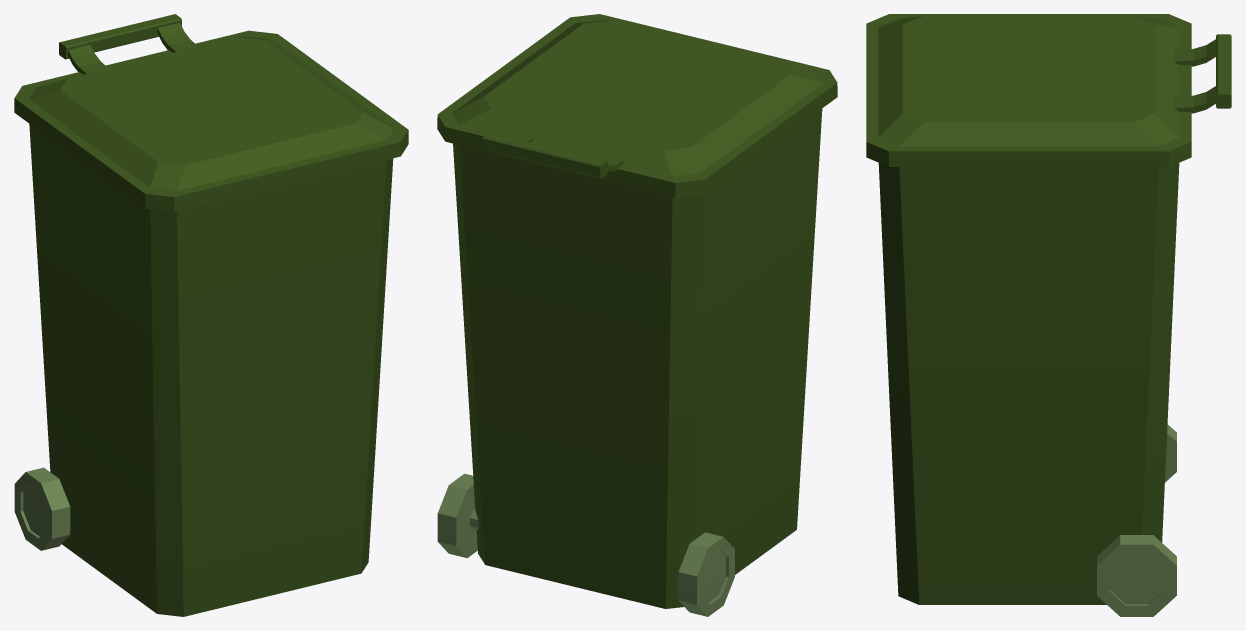
Rendered from Trash_07.fbx.
3 views of the same model, side by side, from view 1: azimuth 30°, elevation 25°; view 2: azimuth 150°, elevation 25°; view 3: azimuth 270°, elevation 25° (orthographic). The views are drawn at different scales.
Visible parts, largest first — view 1: Trash_07; view 2: Trash_07; view 3: Trash_07.
Boxes of the visible parts, bbox=[...] form: Trash_07: bbox=[14, 14, 408, 616]; Trash_07: bbox=[437, 14, 837, 616]; Trash_07: bbox=[866, 14, 1231, 616].
Bounding box in the file's own units: 0.7173 × 1.18 × 0.8053.
